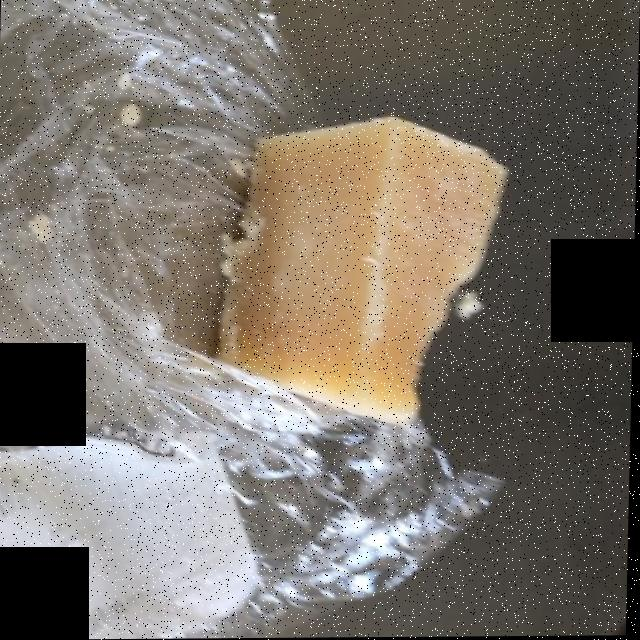hard-cheese: (222, 120, 505, 418)
